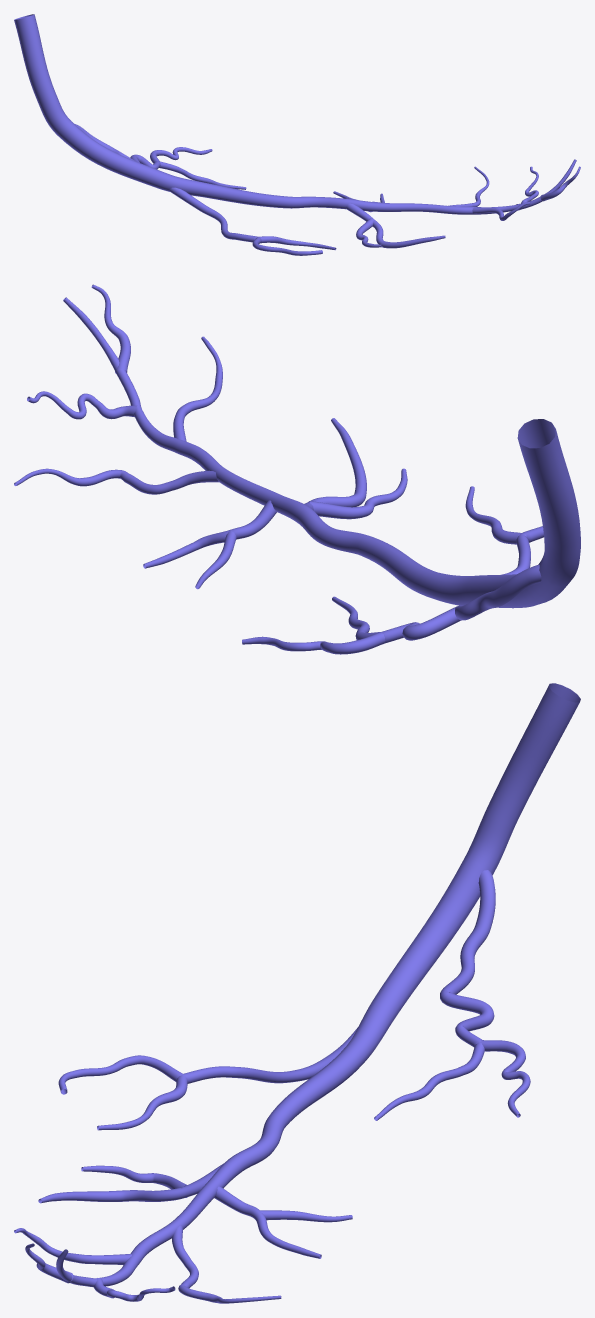
The model's file is Middle_cardiac_vein.glb.
The picture shows the model from 3 angles, top to bottom: view 1: azimuth 30°, elevation 25°; view 2: azimuth 150°, elevation 25°; view 3: azimuth 270°, elevation 25°; orthographic projection. The views are drawn at different scales.
Visible parts, largest first — view 1: Middle_cardiac_vein_BezierCurve.230; view 2: Middle_cardiac_vein_BezierCurve.230; view 3: Middle_cardiac_vein_BezierCurve.230.
Boxes of the visible parts, x1,y1,x2,y2 form: Middle_cardiac_vein_BezierCurve.230: [14, 14, 580, 255]; Middle_cardiac_vein_BezierCurve.230: [14, 284, 580, 654]; Middle_cardiac_vein_BezierCurve.230: [14, 683, 580, 1303].
Bounding box in the file's own units: 0.0714 × 0.033 × 0.0501.
